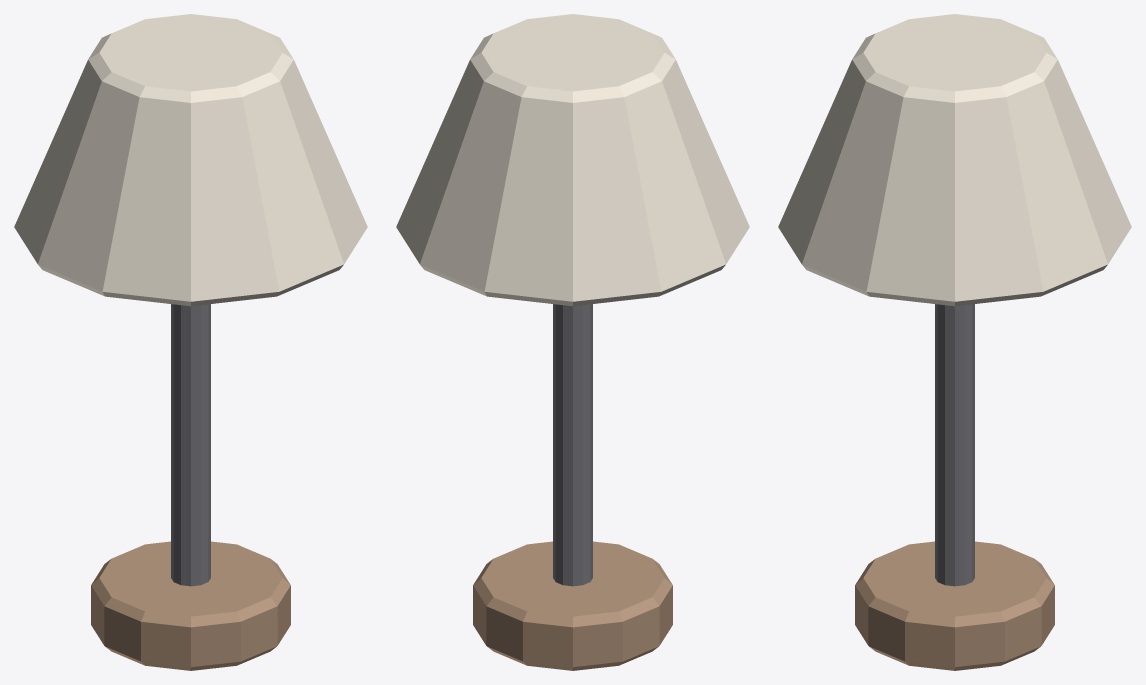
The model's file is SM_Table_Lamp.fbx.
3 views of the same model, side by side, from view 1: azimuth 30°, elevation 25°; view 2: azimuth 150°, elevation 25°; view 3: azimuth 270°, elevation 25° (orthographic).
Parts seen in each view (by area): view 1: Table_Lamp; view 2: Table_Lamp; view 3: Table_Lamp.
Part boxes in pixels (<box>): Table_Lamp: <box>14,14,367,670</box>; Table_Lamp: <box>396,14,749,670</box>; Table_Lamp: <box>778,14,1131,670</box>.
Size of the model in its own units: 35.4 by 64 by 35.4.
